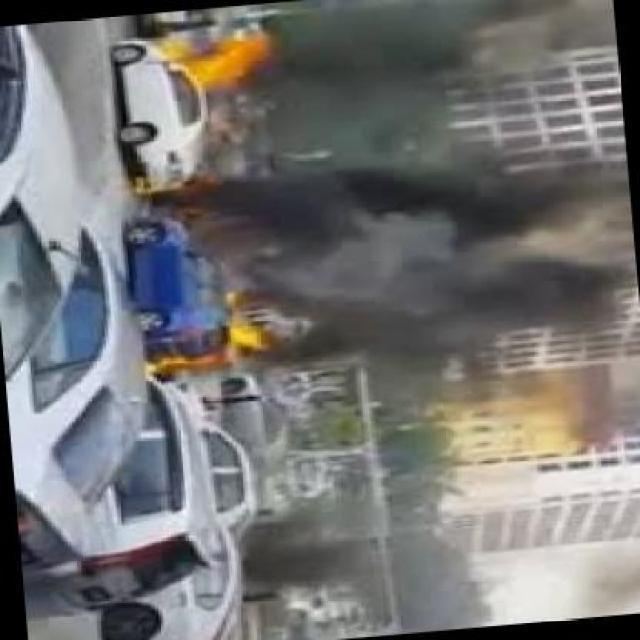Fire: (158, 15, 288, 96), (156, 324, 276, 378)
Smoke: (217, 174, 631, 316), (287, 322, 453, 626), (295, 6, 612, 157)
